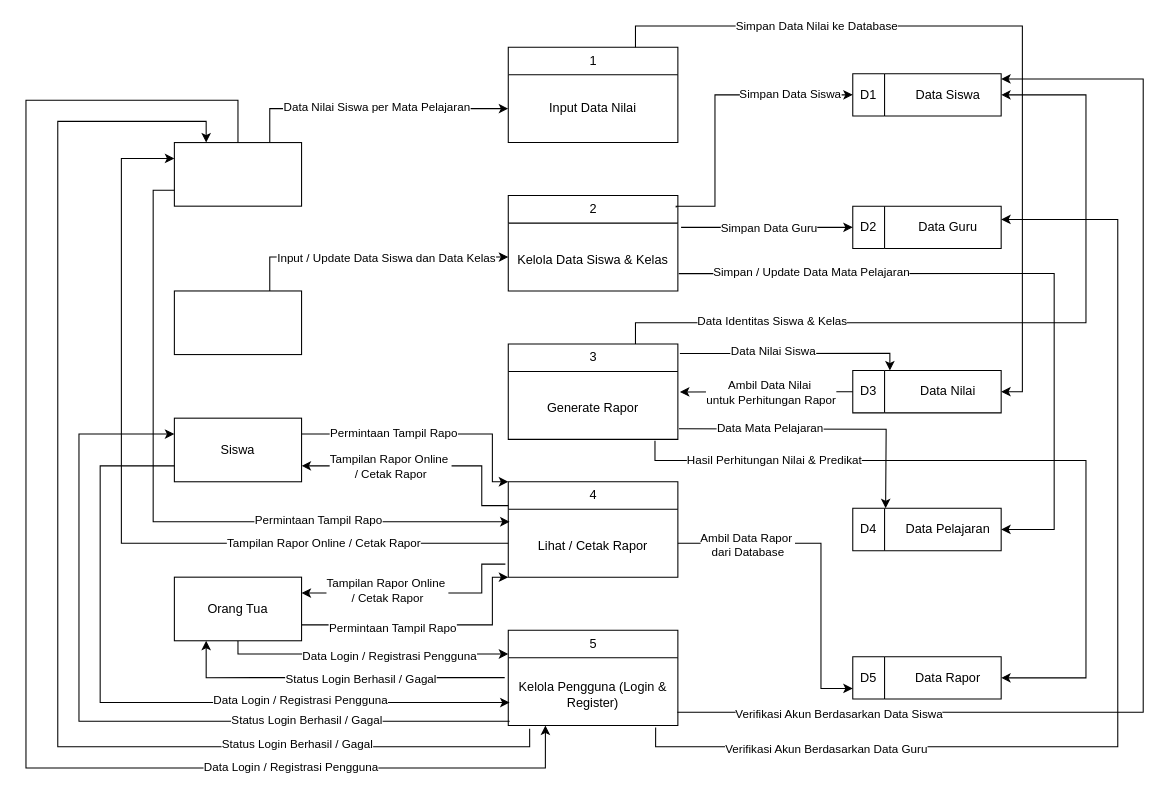
Some shapes in this 1170 by 795 pixel diagram are drawn without their labels. The centre of each missing label's shape, as x and y in pixels:
Admin/Operator: pixel 237 322
Guru: pixel 237 174
